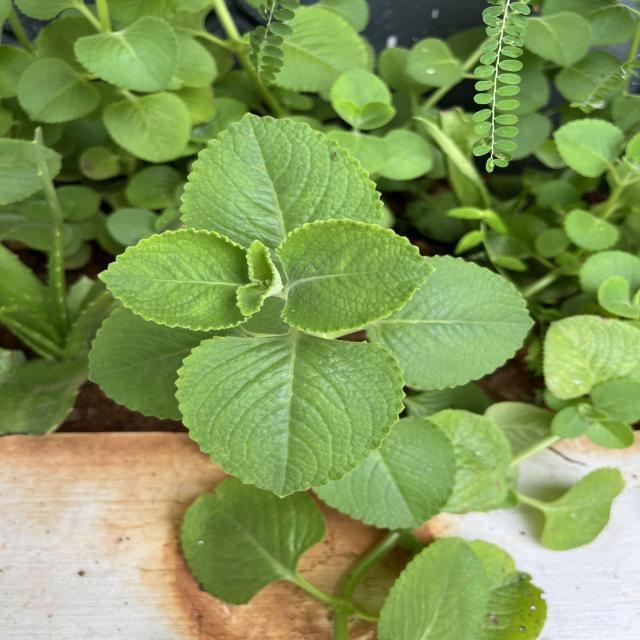Plectranthus barbatus: (172, 336, 410, 500), (178, 109, 386, 226), (367, 253, 537, 392), (178, 476, 330, 608), (274, 216, 438, 338), (95, 227, 272, 333), (312, 417, 458, 533), (72, 15, 184, 94), (102, 93, 194, 164), (16, 56, 102, 124), (552, 117, 626, 178)
